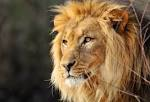lion: (48, 2, 148, 101)
